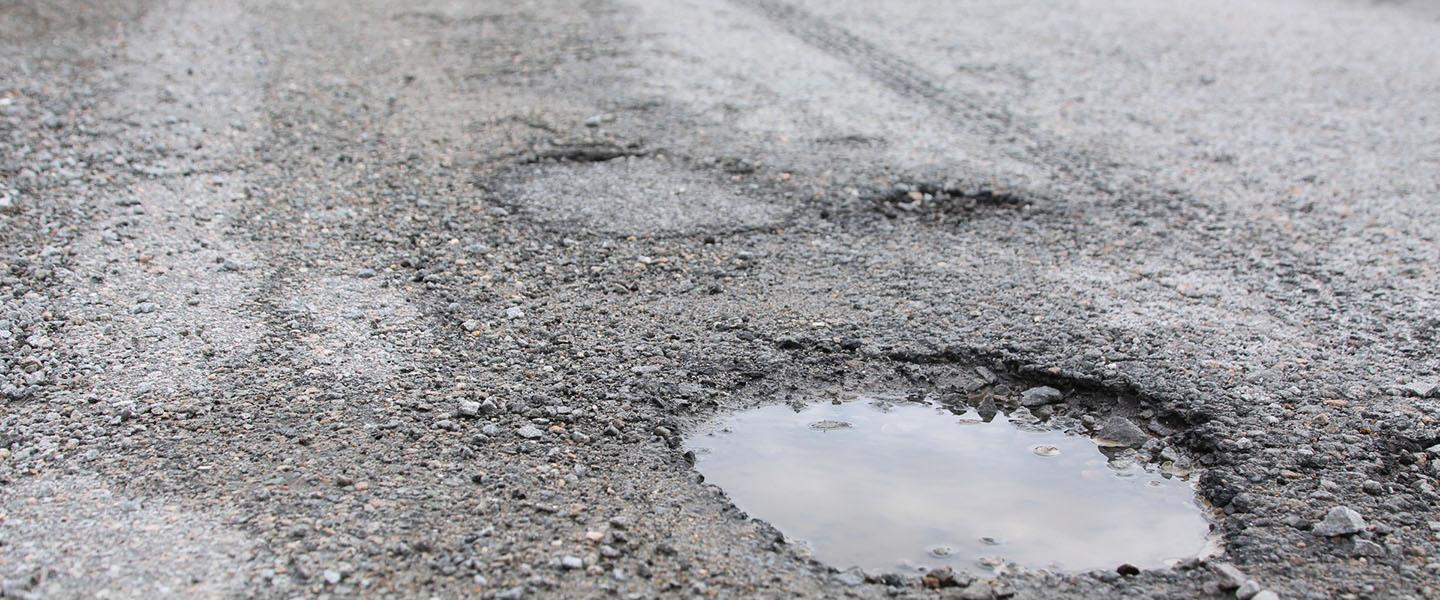Pothole: (646, 336, 1280, 600), (481, 116, 1047, 280)
